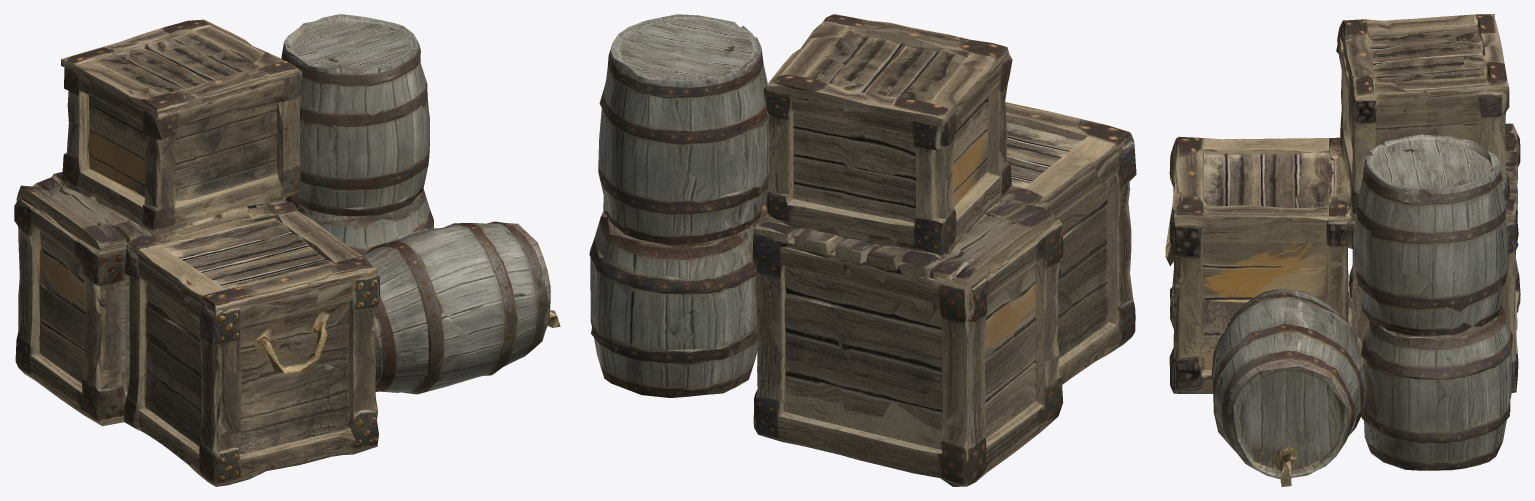
File: barrels_c.glb
3 views of the same model, side by side, from view 1: azimuth 30°, elevation 25°; view 2: azimuth 150°, elevation 25°; view 3: azimuth 270°, elevation 25° (orthographic). The views are drawn at different scales.
Parts seen in each view (by area): view 1: mesh_node; view 2: mesh_node; view 3: mesh_node.
Part boxes in pixels (bbox=[...]): mesh_node: bbox=[14, 14, 560, 486]; mesh_node: bbox=[589, 14, 1136, 486]; mesh_node: bbox=[1165, 14, 1520, 486].
Bounding box in the file's own units: 1.9 × 1.33 × 1.36.
1 material, 1 textured.
